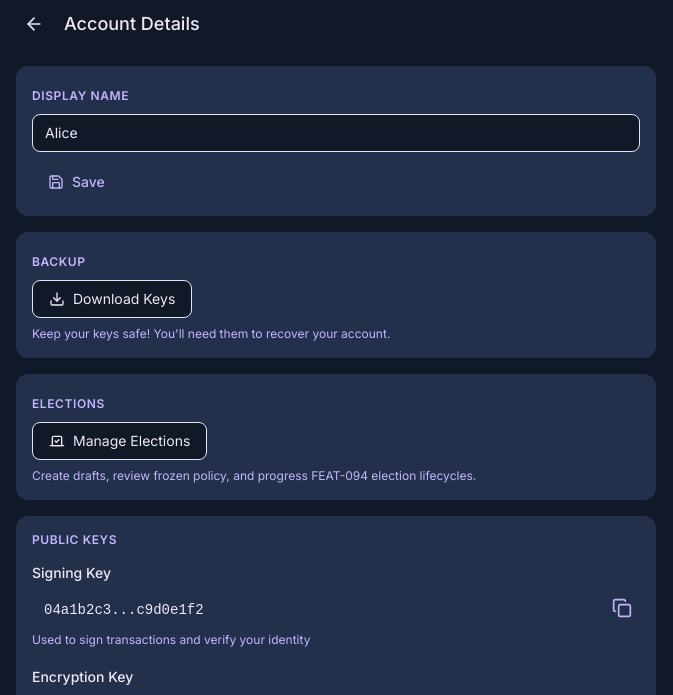
Test: AccountPage › Save Flow › should show success state after saving
Note: Change name to enable save
Step 1. Replace the text in the field showing "Alice" with "New Name" → (336,133), box top-left (32, 114), bottom-right (640, 152)
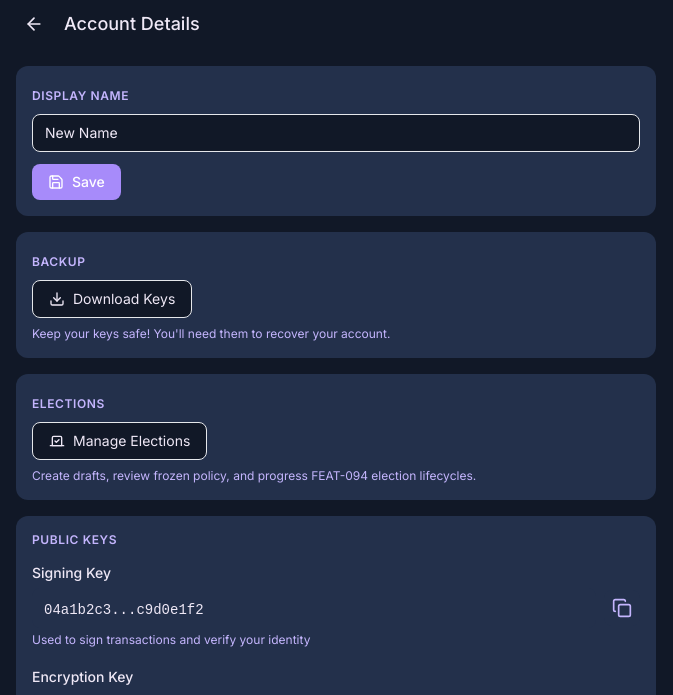
Note: Click save
Step 2. Click the button "Save" → (76,182), box top-left (32, 164), bottom-right (121, 200)
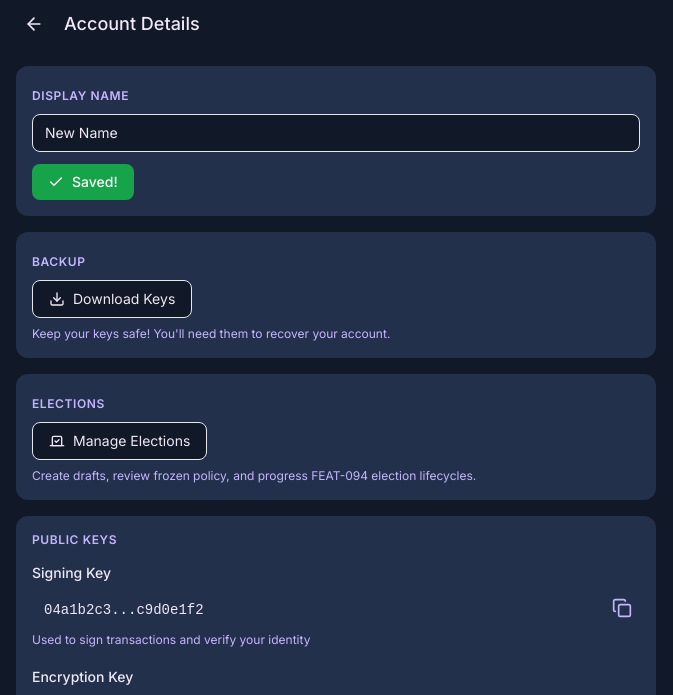
Expected: the text "Saved!" is shown, top-left (72, 172), bottom-right (118, 192)
